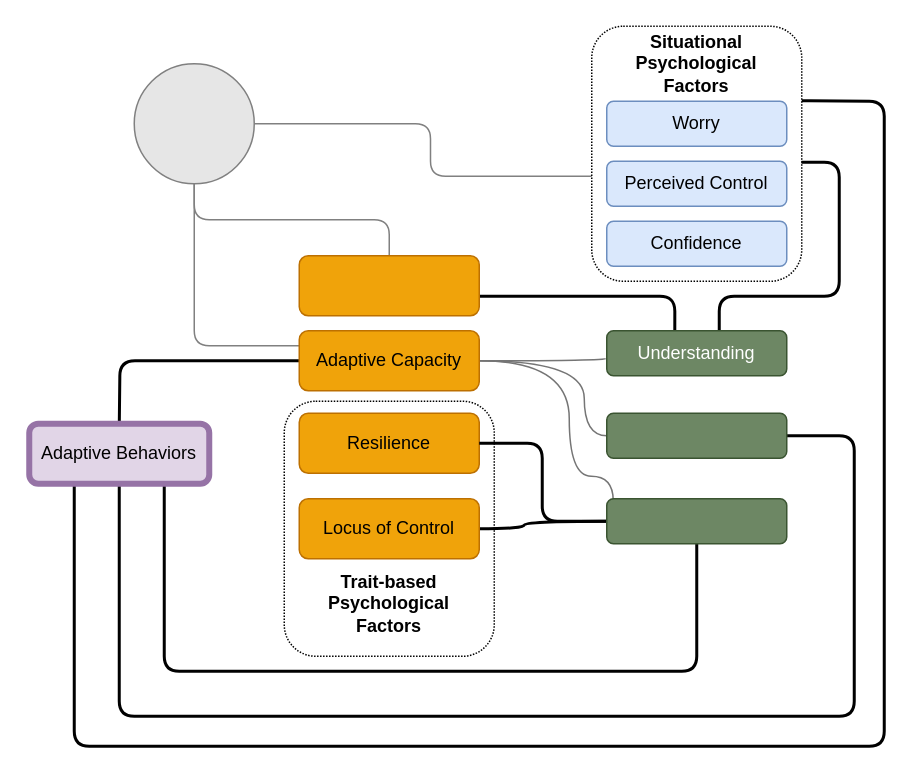
The diagram is 912 pixels wide and 776 high, and some of its shapes have lost their labels. The box of each missing label's shape, as (x1, y1, x2, y2) in pixels:
Knowledge: (298, 254, 479, 316)
Means/Resources: (605, 412, 787, 458)
Social Context: (133, 62, 254, 184)
Tendancies: (605, 497, 787, 544)
